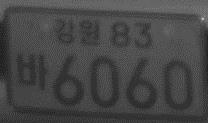0: (88, 55, 121, 109), (162, 58, 195, 112)
3: (132, 20, 152, 50)
6: (124, 58, 157, 111), (52, 55, 84, 107)
8: (109, 19, 130, 48)
강원_H: (52, 17, 102, 48)
바: (15, 53, 50, 92)
